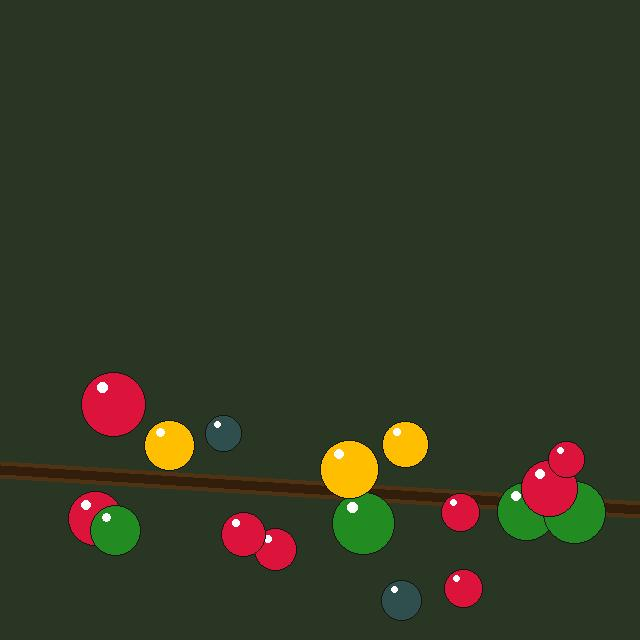Dry_Damaged: (381, 580, 421, 620), (205, 415, 241, 451)
Ripe: (81, 372, 145, 436), (521, 460, 577, 516), (68, 491, 122, 545), (221, 512, 265, 556), (254, 528, 296, 570), (441, 493, 479, 531), (444, 569, 482, 607), (548, 441, 584, 477)
Ripening: (320, 440, 378, 498), (144, 420, 194, 470), (382, 421, 428, 467)
Unripe: (332, 492, 394, 554), (543, 481, 605, 543), (497, 482, 555, 540), (90, 505, 140, 555)
